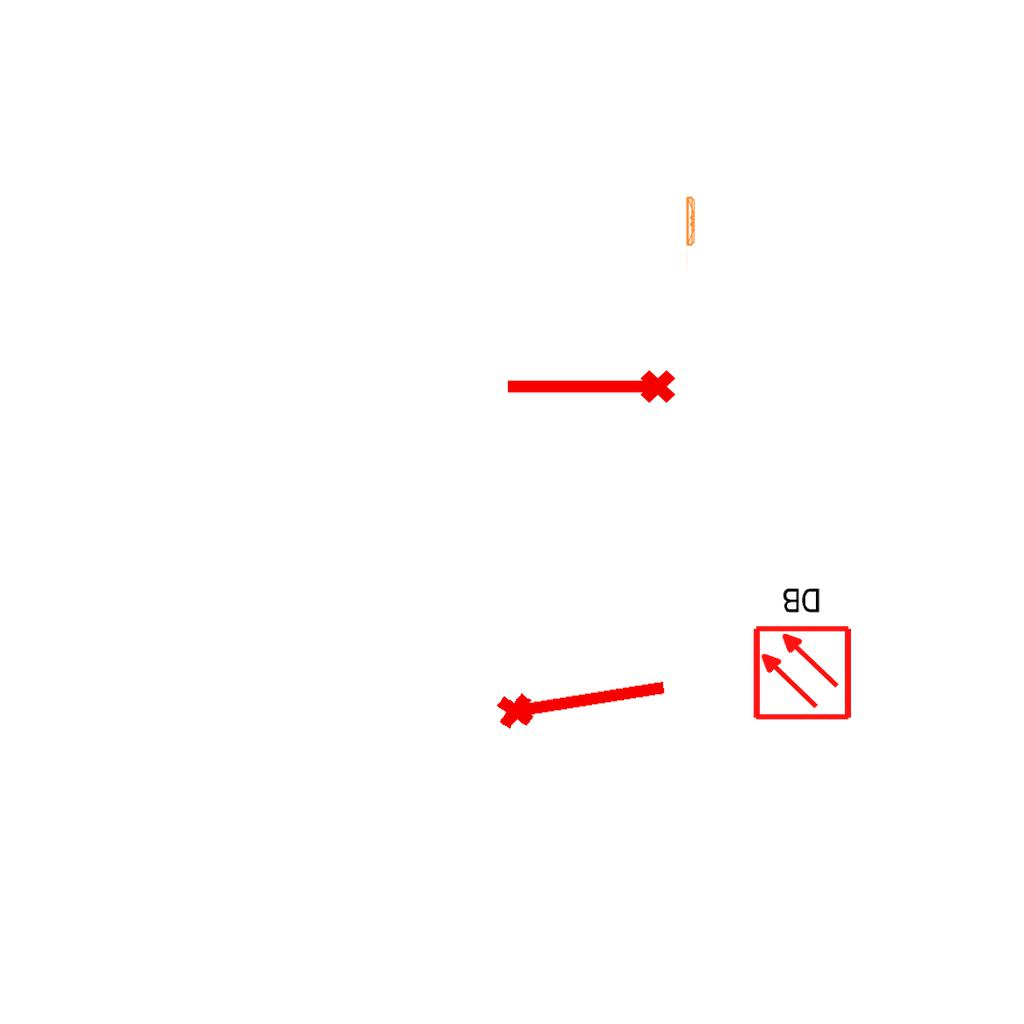ASR_Ansaugoeffnung: (491, 661, 673, 735), (502, 366, 678, 412)
DB_Melder_in_Doppelboden_mit_Revisionsoeffnung_mind_40_x_40_cm: (744, 578, 858, 727)
Sicherheitsleuchte_Wandeinbau: (685, 194, 697, 273)
